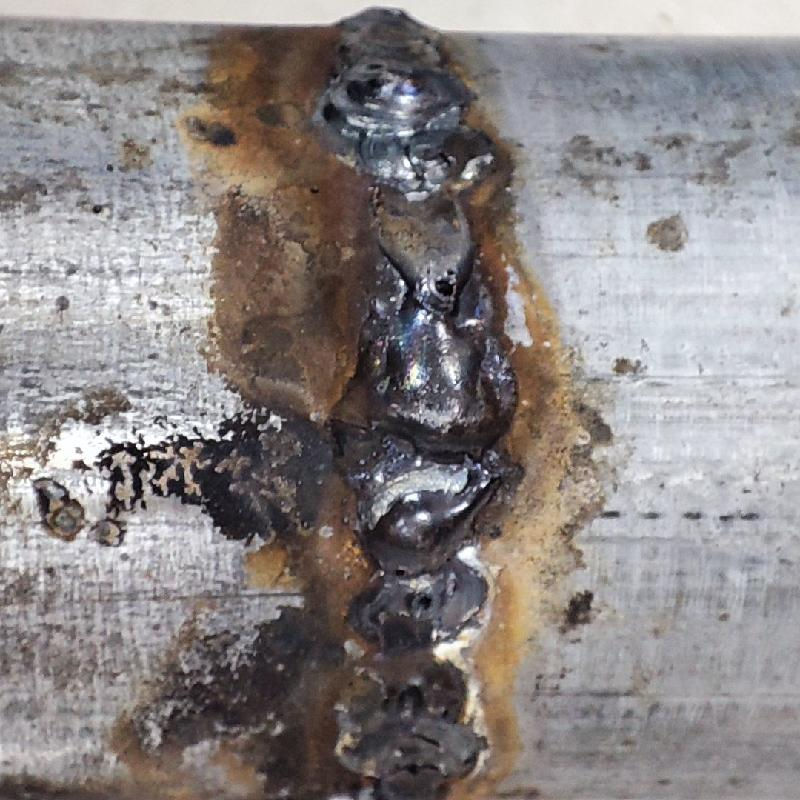Not_fully_soldered: (350, 575, 499, 799), (368, 189, 486, 312)
Surface_pores: (374, 672, 439, 724), (420, 258, 468, 311), (391, 581, 445, 620)
Weld: (356, 311, 514, 575)
wrong_size: (327, 6, 479, 192)
